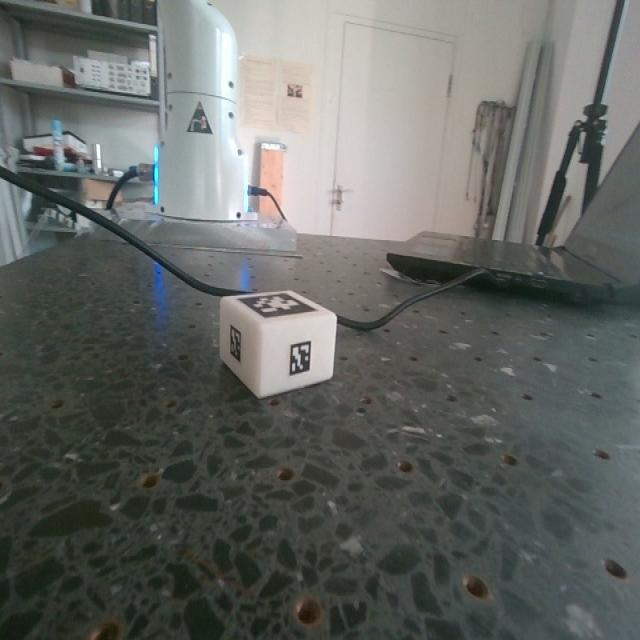Cube: (220, 284, 337, 396)
